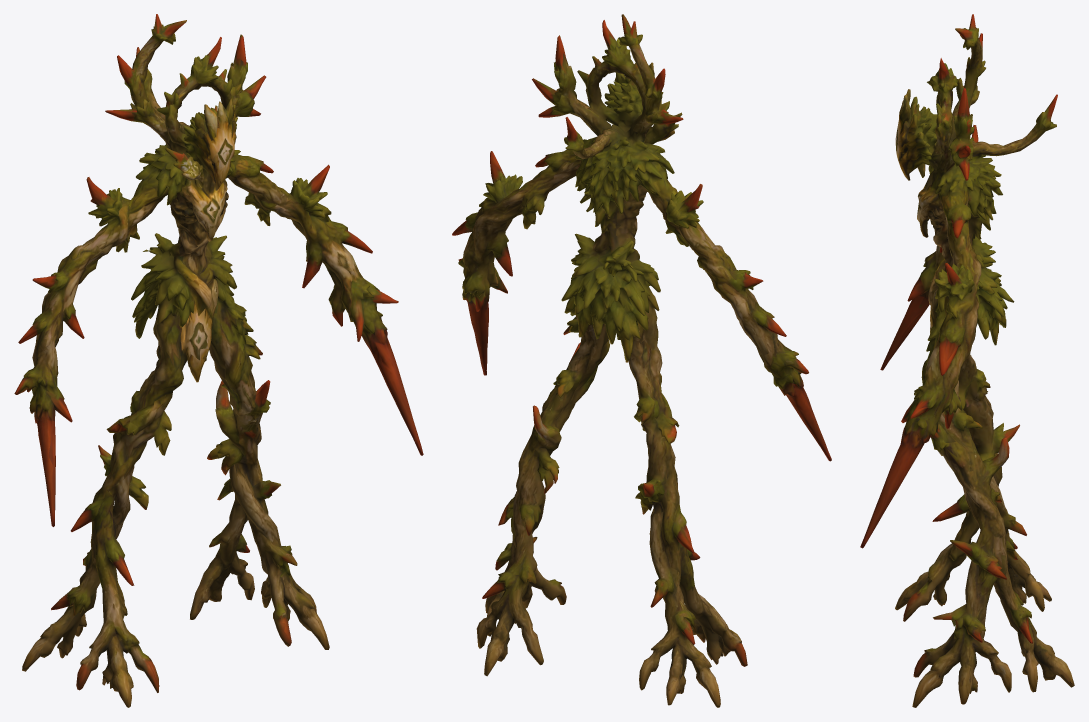
File: ForestThorncaster_23k_candidate.glb
3 views of the same model, side by side, from view 1: azimuth 30°, elevation 25°; view 2: azimuth 150°, elevation 25°; view 3: azimuth 270°, elevation 25° (orthographic). The views are drawn at different scales.
Parts seen in each view (by area): view 1: SM_ForestThorncaster_LOD0; view 2: SM_ForestThorncaster_LOD0; view 3: SM_ForestThorncaster_LOD0.
Boxes of the visible parts, x1,y1,x2,y2 form: SM_ForestThorncaster_LOD0: [14, 14, 423, 707]; SM_ForestThorncaster_LOD0: [452, 14, 831, 707]; SM_ForestThorncaster_LOD0: [860, 14, 1074, 707].
Size of the model in its own units: 1.61 by 2.7 by 0.8365.
Materials: 1 (1 with a texture image).
